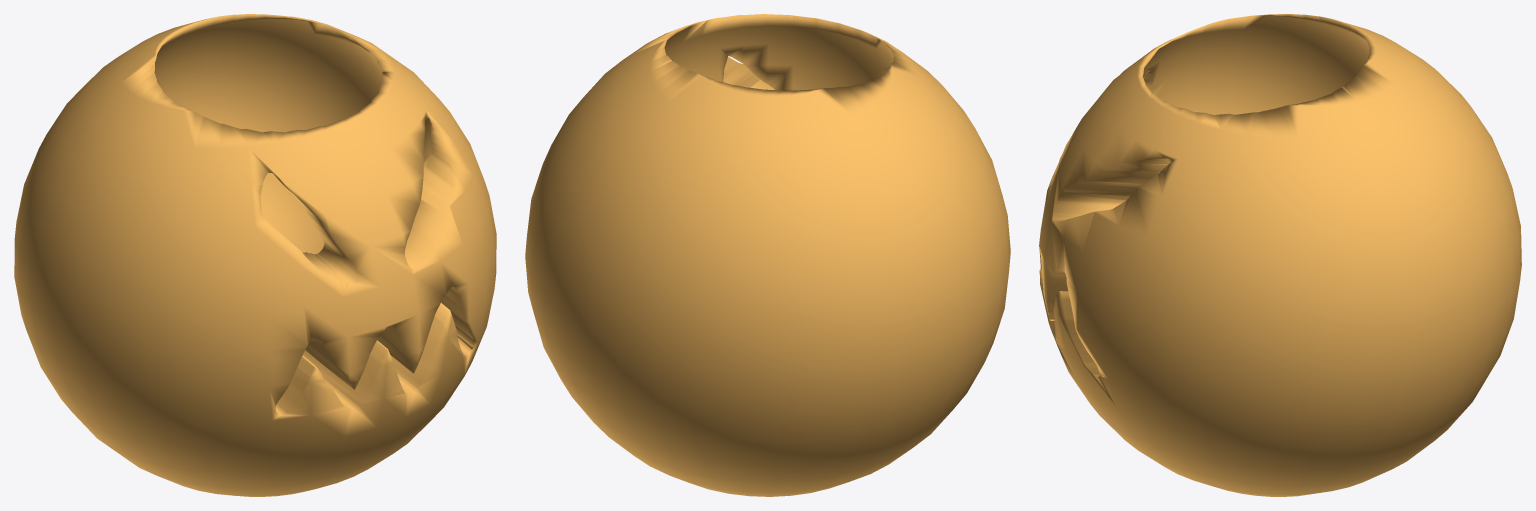
3 renders of one model, left to right at view 1: azimuth 30°, elevation 25°; view 2: azimuth 150°, elevation 25°; view 3: azimuth 270°, elevation 25°, orthographic.
Parts seen in each view (by area): view 1: obj_0.002_obj_0.003; view 2: obj_0.002_obj_0.003; view 3: obj_0.002_obj_0.003.
Boxes of the visible parts, box(x1,y1,x2,y2) form: obj_0.002_obj_0.003: box(14, 14, 496, 496); obj_0.002_obj_0.003: box(525, 14, 1010, 496); obj_0.002_obj_0.003: box(1039, 14, 1521, 496).
Bounding box in the file's own units: 0.0427 × 0.0412 × 0.0427.
